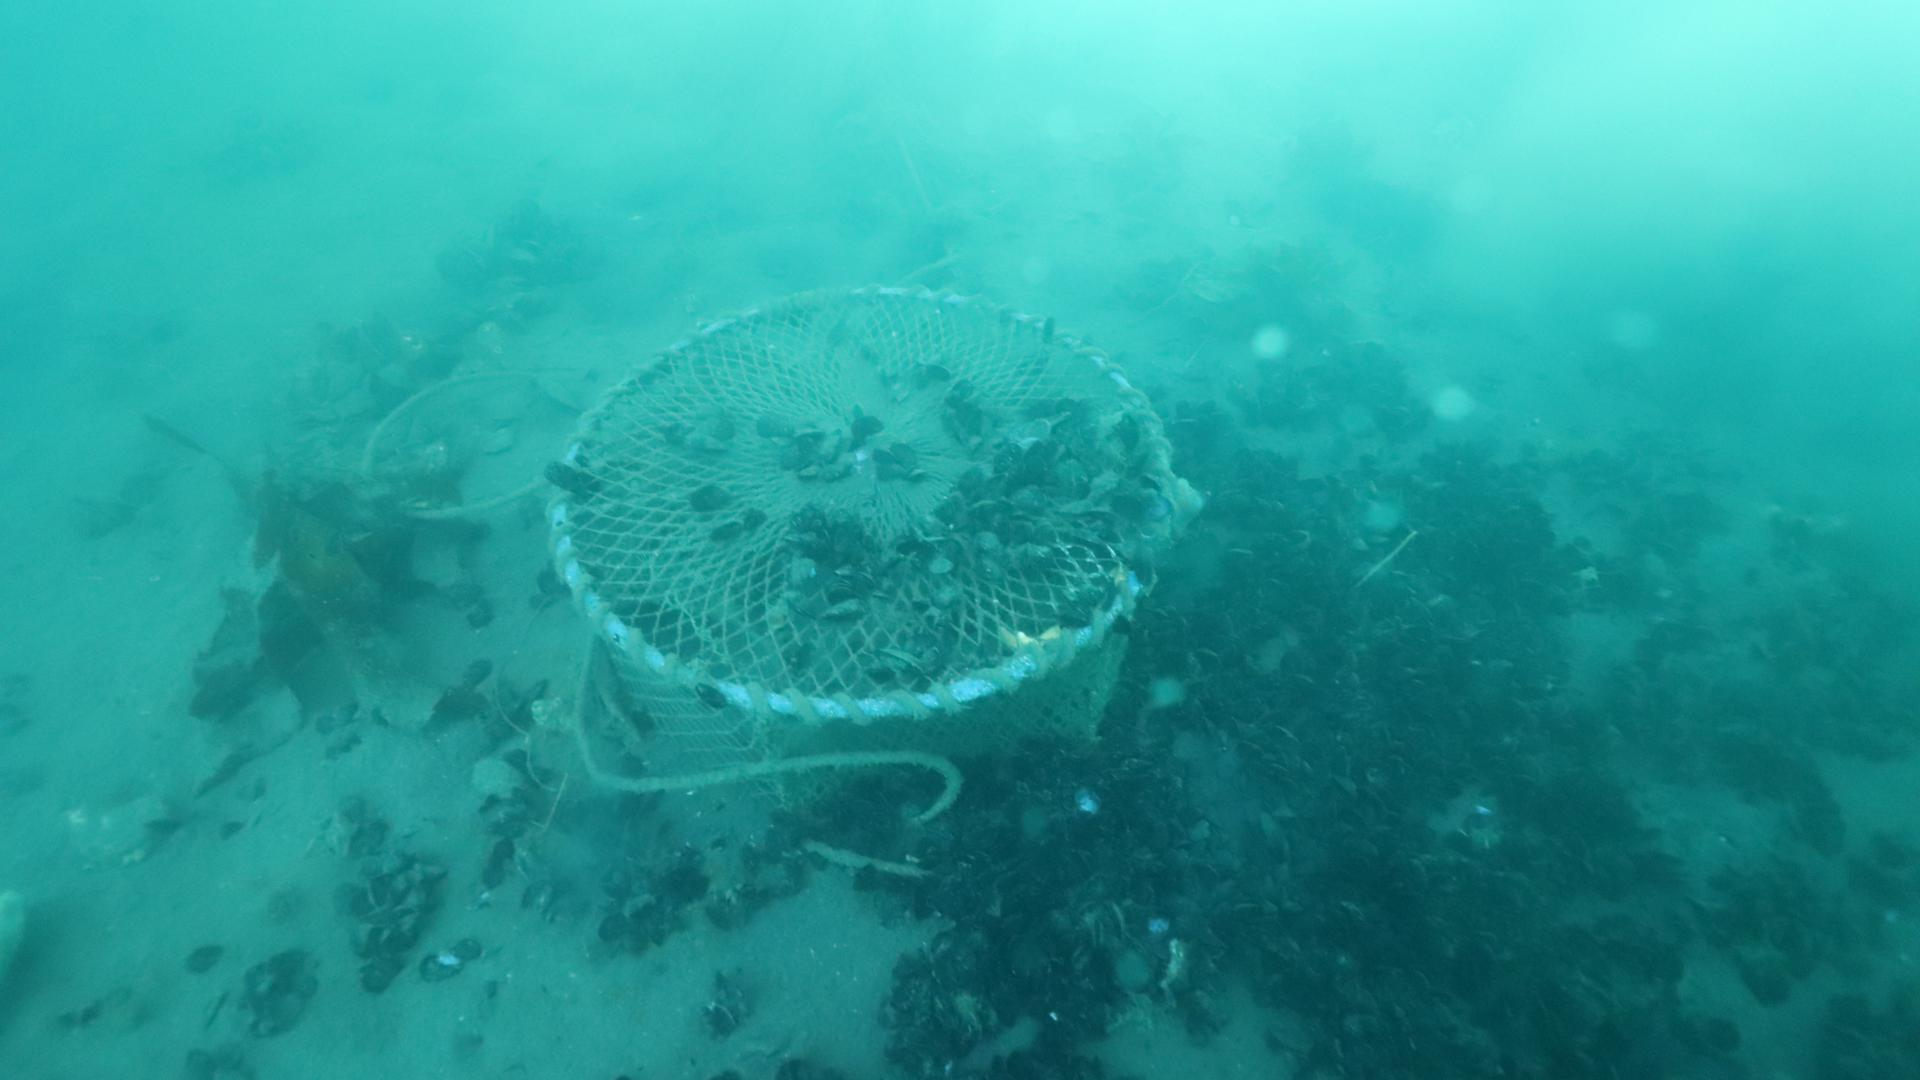bundle of ropes: (353, 364, 585, 527)
circular fish trap: (546, 280, 1179, 796)
rope: (568, 597, 963, 827), (798, 836, 938, 882)
